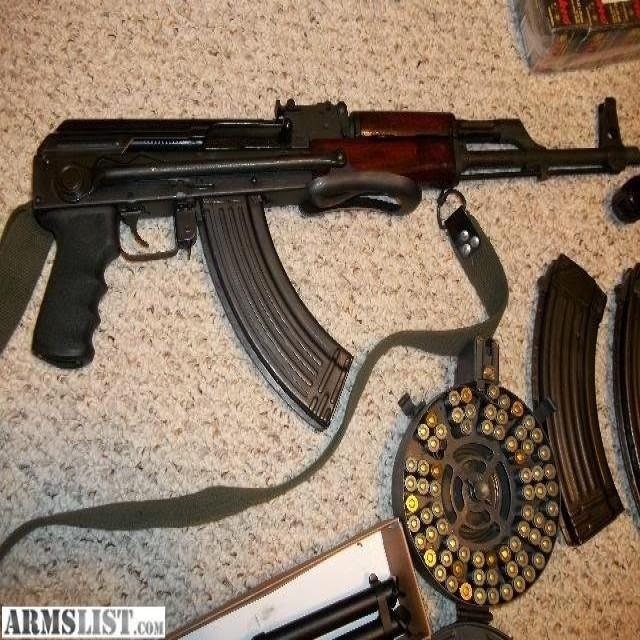ak: (11, 84, 640, 438)
